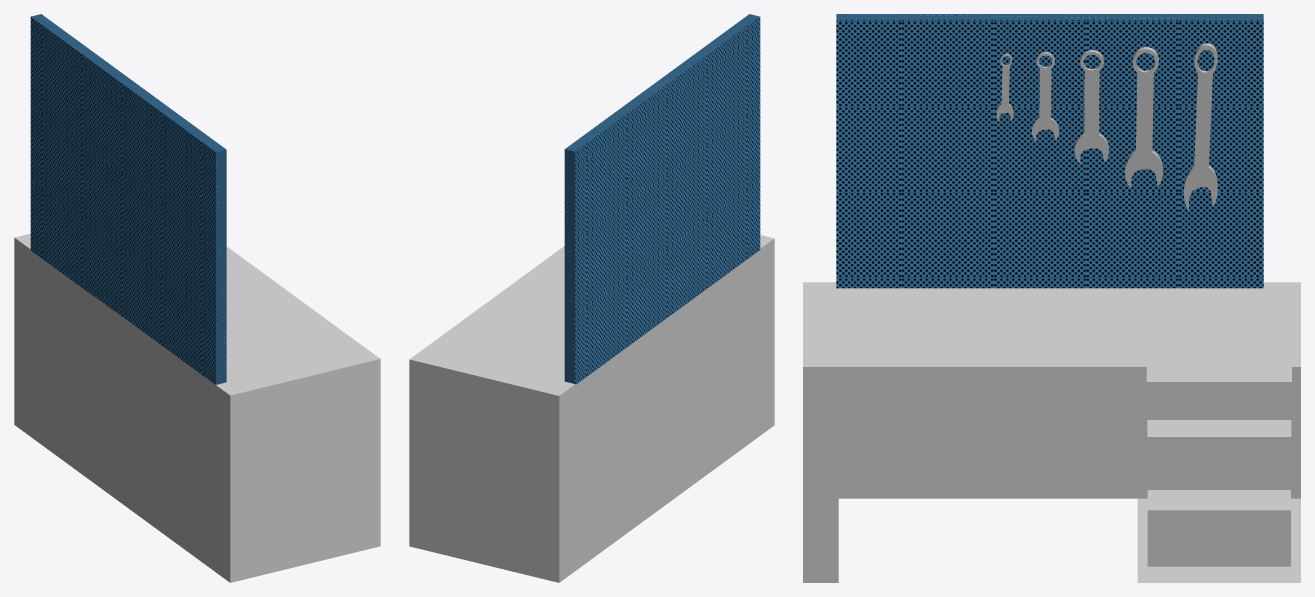
The model's file is WorkBenchV0.fbx.
3 views of the same model, side by side, from view 1: azimuth 30°, elevation 25°; view 2: azimuth 150°, elevation 25°; view 3: azimuth 270°, elevation 25° (orthographic). The views are drawn at different scales.
Parts seen in each view (by area): view 1: Table, ToolShelf; view 2: Table, ToolShelf; view 3: ToolShelf, Table, DrawerBottom, DrawerMiddle, DrawerTop, tool.001, tool, tool.004, tool.002.
Boxes of the visible parts, box(x1,y1,x2,y2) form: Table: box(14, 233, 380, 582); ToolShelf: box(30, 14, 226, 384); Table: box(409, 235, 774, 582); ToolShelf: box(564, 14, 760, 384); ToolShelf: box(836, 14, 1263, 288); Table: box(803, 282, 1300, 582); DrawerBottom: box(1147, 490, 1290, 566); DrawerMiddle: box(1147, 420, 1291, 489); DrawerTop: box(1146, 367, 1291, 419); tool.001: box(1184, 43, 1217, 210); tool: box(1125, 47, 1162, 188); tool.004: box(1074, 50, 1108, 163); tool.002: box(1032, 52, 1058, 141).
Bounding box in the file's own units: 112 × 300 × 279.
